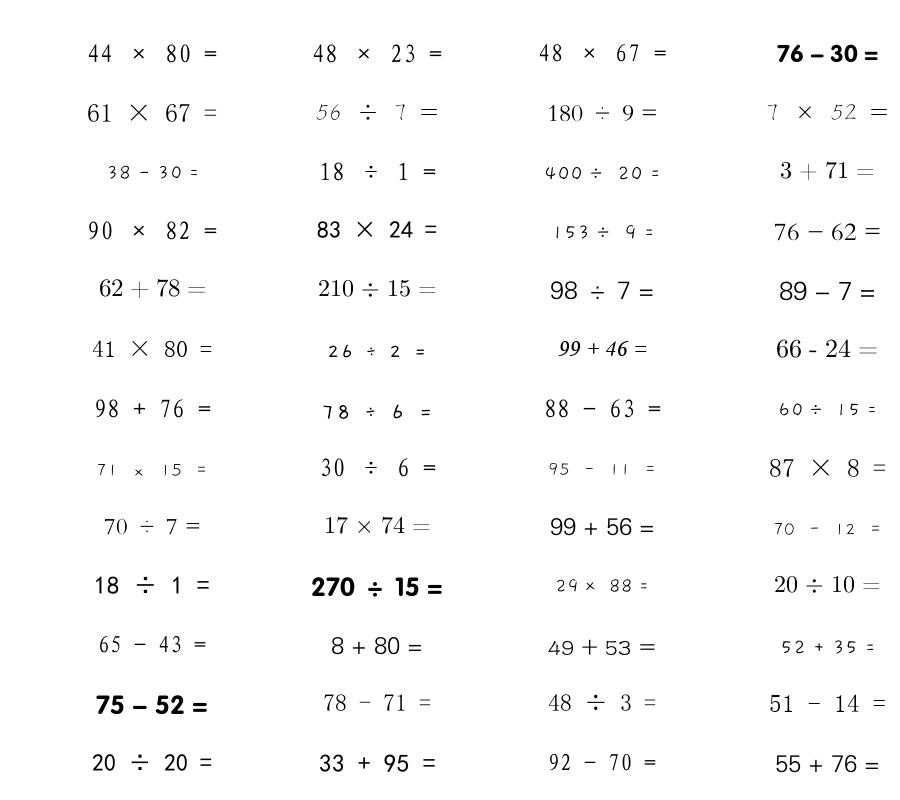MQ: (311, 577, 443, 597), (87, 44, 217, 63), (312, 44, 442, 63), (87, 103, 217, 122), (87, 221, 217, 240), (538, 44, 667, 62), (96, 695, 208, 715), (319, 162, 436, 181), (94, 399, 211, 418), (544, 399, 661, 418), (319, 458, 436, 477), (92, 754, 212, 772), (318, 279, 437, 297), (99, 279, 206, 299), (769, 459, 886, 477), (769, 694, 886, 712), (319, 754, 436, 772), (94, 576, 210, 594), (316, 104, 438, 121), (766, 104, 888, 121), (317, 221, 437, 238), (92, 340, 212, 357), (550, 517, 655, 536), (775, 754, 880, 773), (550, 281, 654, 300), (98, 635, 206, 653), (548, 753, 656, 771), (779, 281, 876, 301), (776, 339, 878, 358), (774, 223, 881, 241), (324, 516, 431, 534), (774, 575, 881, 593), (777, 44, 878, 63), (547, 105, 658, 122), (548, 639, 656, 656), (323, 694, 431, 711), (548, 694, 656, 711), (780, 161, 875, 180), (544, 166, 660, 181), (321, 404, 433, 419), (331, 637, 423, 655), (104, 518, 201, 535), (551, 224, 654, 240), (96, 463, 208, 477), (548, 462, 657, 476), (780, 640, 875, 655), (773, 523, 882, 536), (327, 344, 427, 358), (106, 165, 199, 180), (778, 403, 877, 417), (557, 341, 647, 356), (555, 579, 649, 593)
